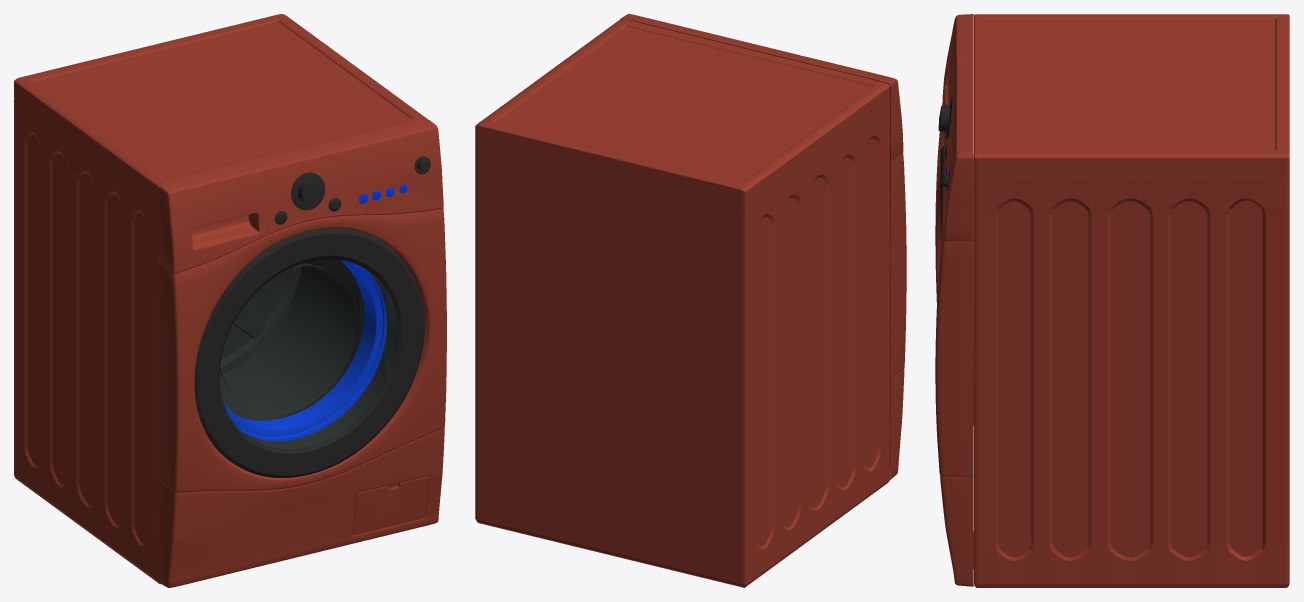
The model's file is Pracka_F1480TDS6_LG.FBX.
3 renders of one model, left to right at view 1: azimuth 30°, elevation 25°; view 2: azimuth 150°, elevation 25°; view 3: azimuth 270°, elevation 25°, orthographic. The views are drawn at different scales.
Visible parts, largest first — view 1: Pracka_LG_F1480TDS6_telo, Pracka_LG_F1480TDS6_dvierka_sklo, Pracka_LG_F1480TDS6_dvierka, Pracka_LG_F1480TDS6_bubon; view 2: Pracka_LG_F1480TDS6_telo; view 3: Pracka_LG_F1480TDS6_telo.
Part boxes in pixels (x1=…): Pracka_LG_F1480TDS6_telo: x1=14, y1=14, x2=446, y2=587; Pracka_LG_F1480TDS6_dvierka_sklo: x1=220, y1=259, x2=397, y2=448; Pracka_LG_F1480TDS6_dvierka: x1=194, y1=228, x2=424, y2=477; Pracka_LG_F1480TDS6_bubon: x1=220, y1=259, x2=364, y2=420; Pracka_LG_F1480TDS6_telo: x1=475, y1=14, x2=906, y2=587; Pracka_LG_F1480TDS6_telo: x1=935, y1=14, x2=1289, y2=587.
Bounding box in the file's own units: 600 × 850 × 625.
